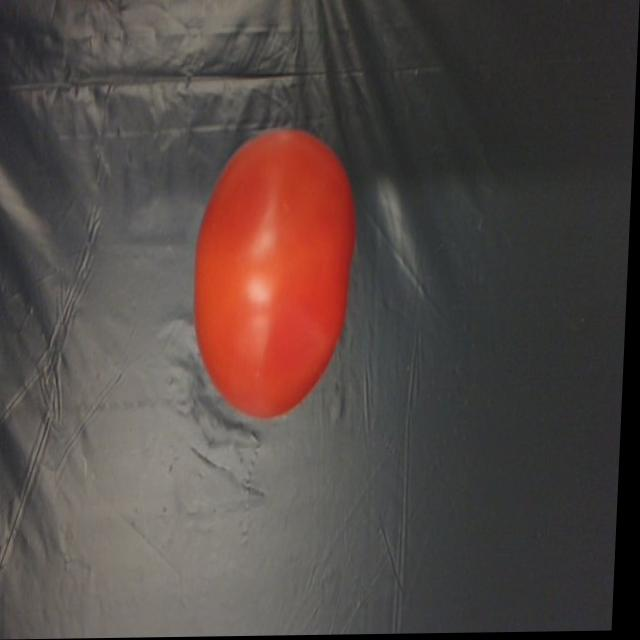kirmizi: (197, 123, 363, 426)
